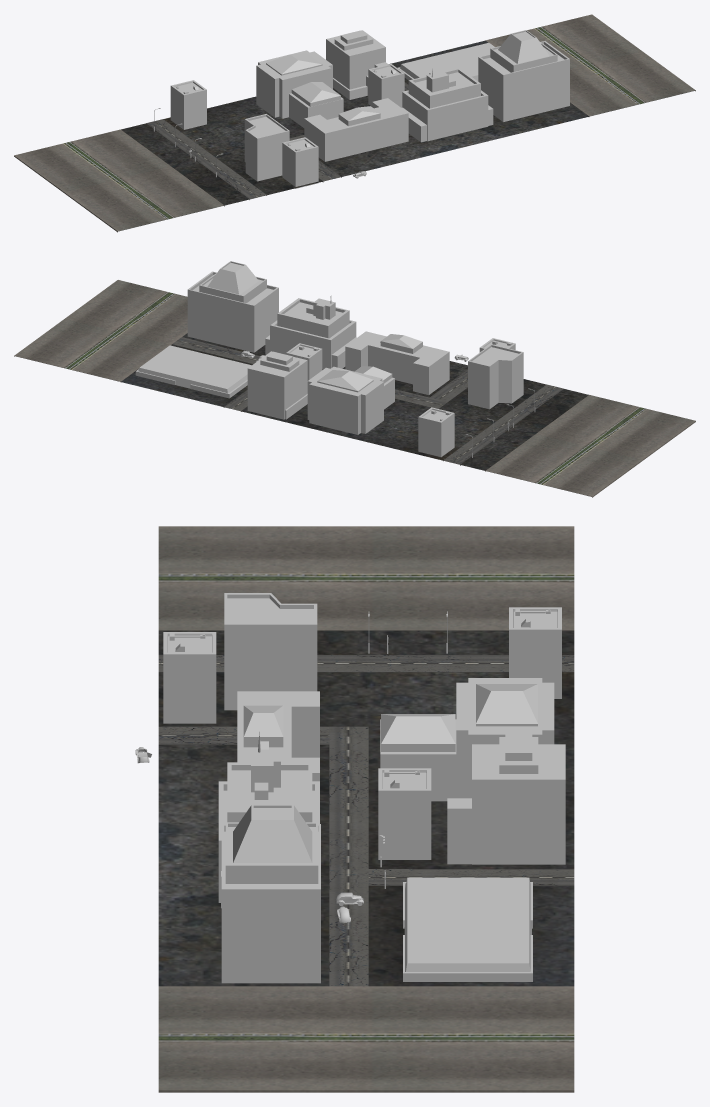
File: Block_15.fbx
3 views of the same model, one above another, from view 1: azimuth 30°, elevation 25°; view 2: azimuth 150°, elevation 25°; view 3: azimuth 270°, elevation 25° (orthographic). The views are drawn at different scales.
Parts seen in each view (by area): view 1: pasted__polySurface1342; view 2: pasted__polySurface1342; view 3: pasted__polySurface1342.
Part boxes in pixels (left/top/right/bottom): pasted__polySurface1342: left=14, top=14, right=695, bottom=232; pasted__polySurface1342: left=14, top=261, right=695, bottom=497; pasted__polySurface1342: left=135, top=526, right=574, bottom=1092.
Size of the model in its own units: 459 by 151 by 58.27.
